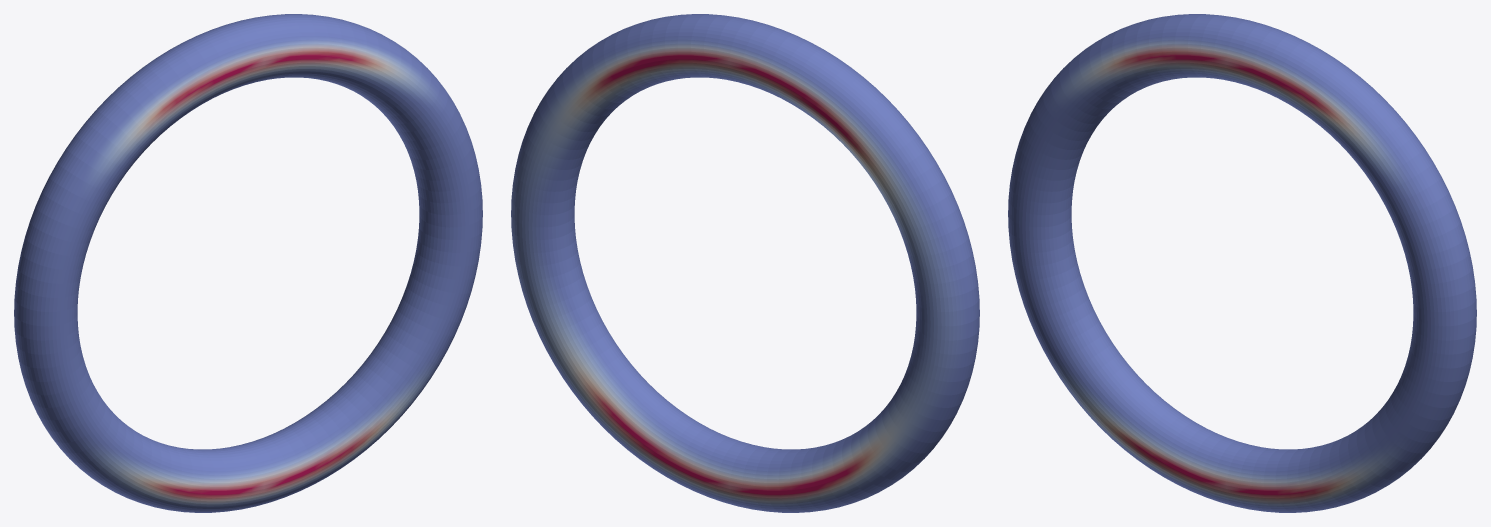
3 views of the same model, side by side, from view 1: azimuth 30°, elevation 25°; view 2: azimuth 150°, elevation 25°; view 3: azimuth 330°, elevation 25° (orthographic).
Parts seen in each view (by area): view 1: world; view 2: world; view 3: world.
Part boxes in pixels (x1,y1,x2,y2): world: (14,14,482,512); world: (511,14,979,512); world: (1008,14,1476,512).
Size of the model in its own units: 21.2 by 21.2 by 2.53.
